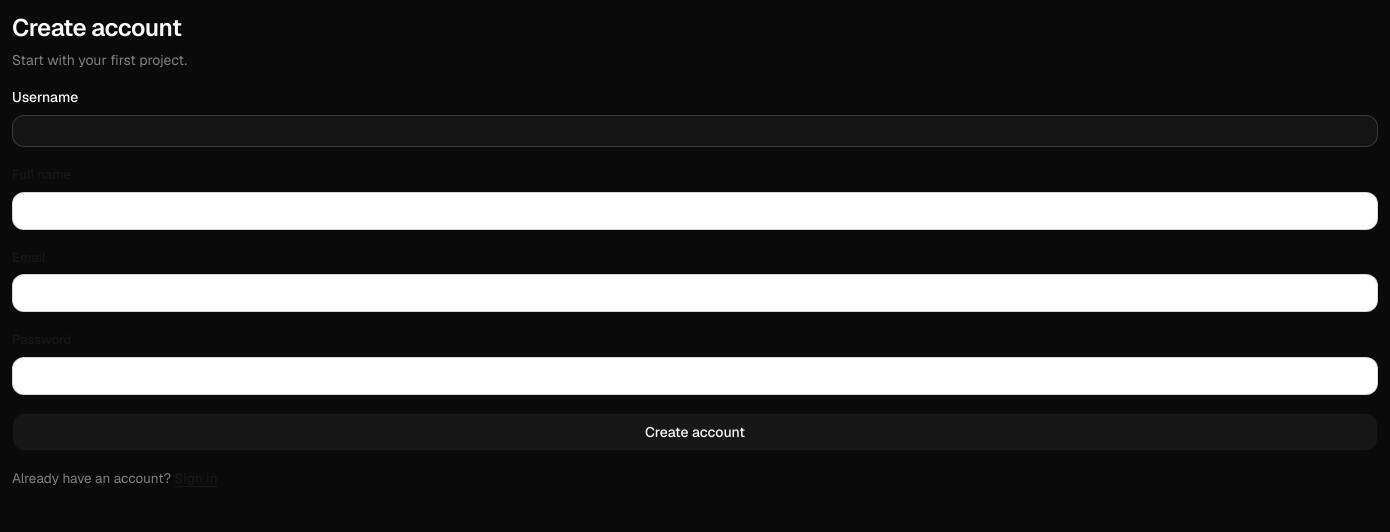
Test: SignUpForm › shows a clear message when the username is already taken
In the field labelled "Username": point(695, 131) x1=12 y1=115 x2=1378 y2=147, type "ada"
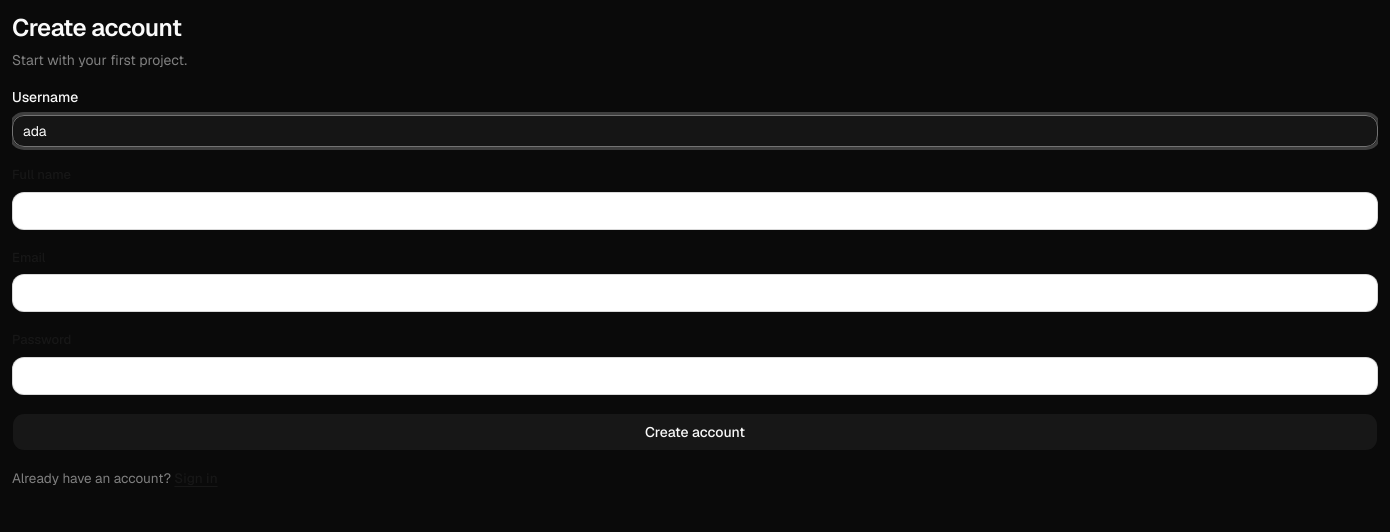
In the field labelled "Full name": point(695, 211) x1=12 y1=192 x2=1378 y2=230, type "Ada"
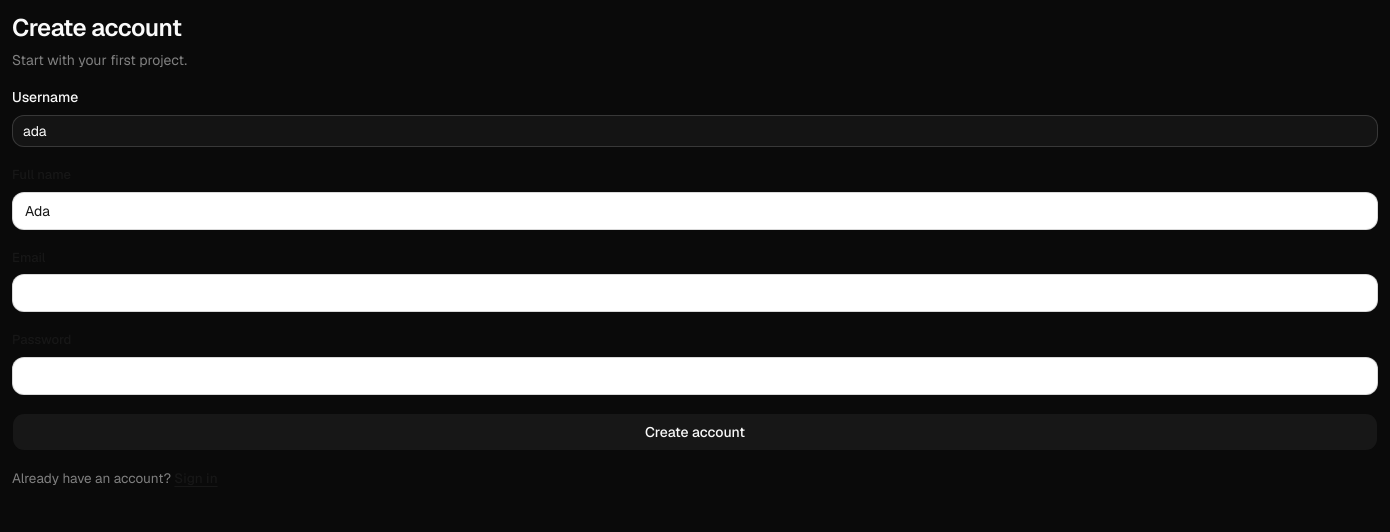
In the field labelled "Email": point(695, 293) x1=12 y1=274 x2=1378 y2=312, type "ada@example.com"
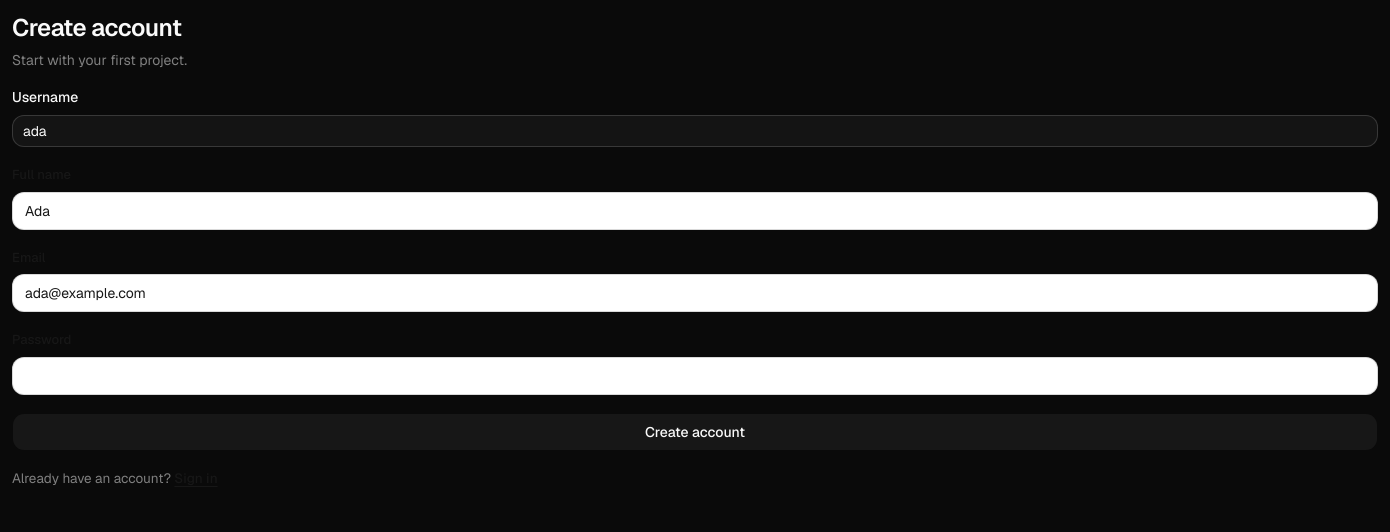
In the password field labelled "Password": point(695, 376) x1=12 y1=357 x2=1378 y2=395, type "a-long-enough-password"
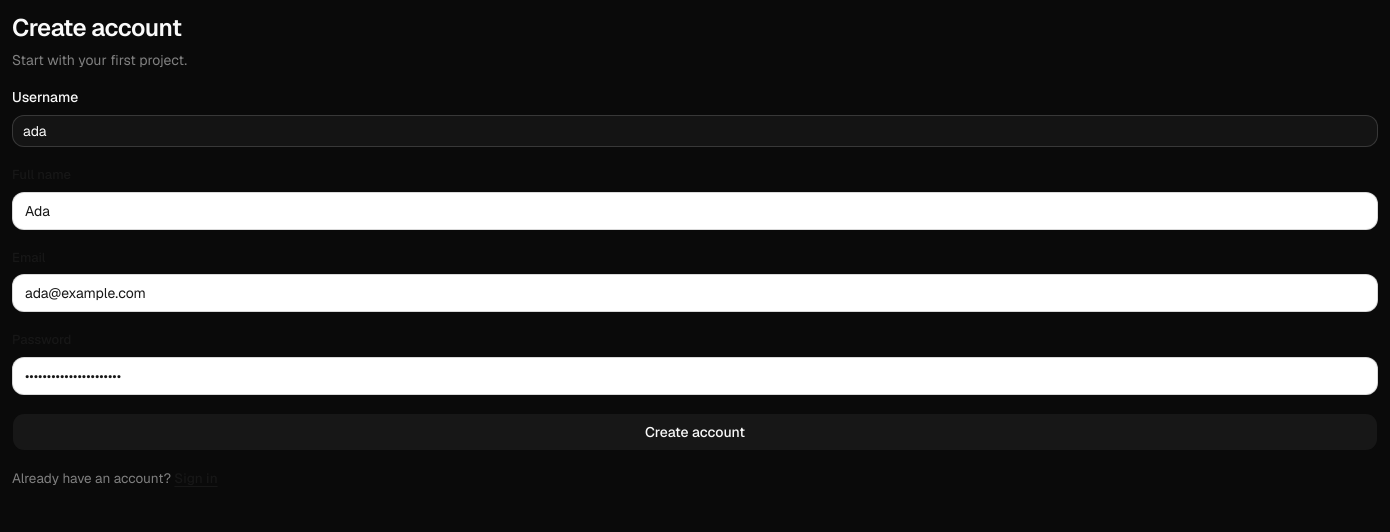
Click the button "Create account": point(695, 432) x1=12 y1=413 x2=1378 y2=451
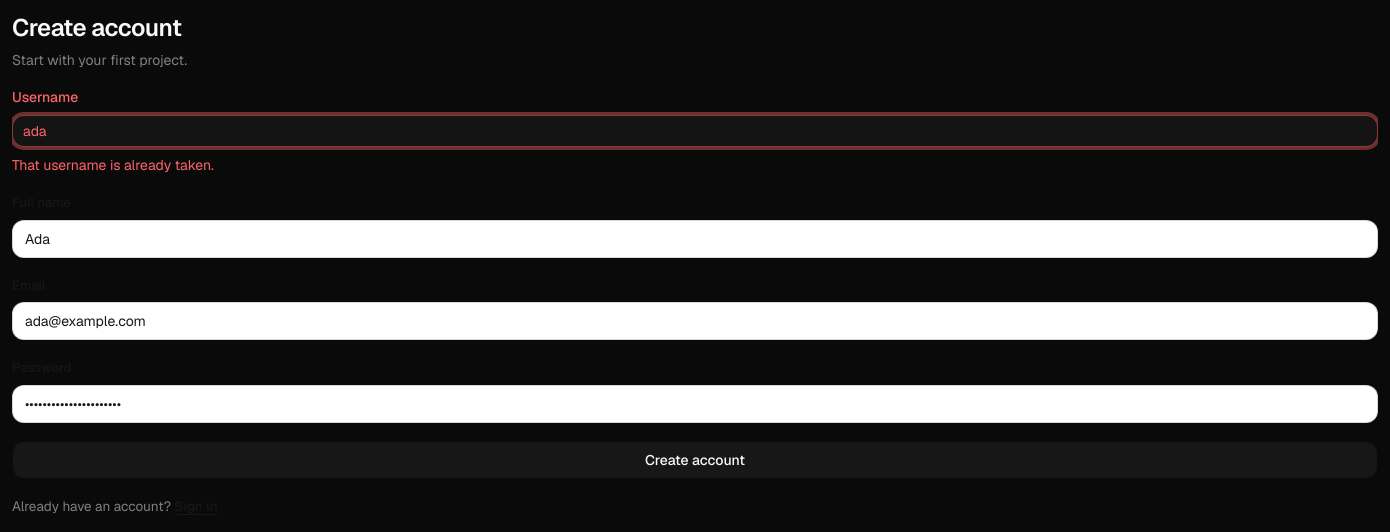
Expected: the text "That username is already taken." is shown, x1=12 y1=156 x2=214 y2=174
